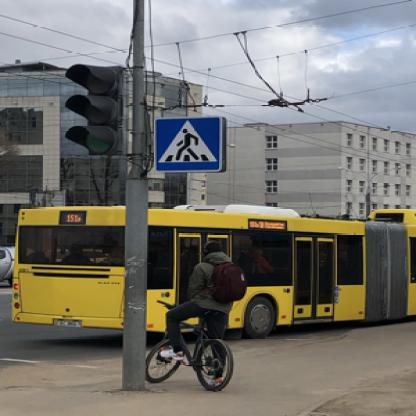crosswalk: (151, 113, 225, 172)
trafficlight: (61, 60, 123, 155)
